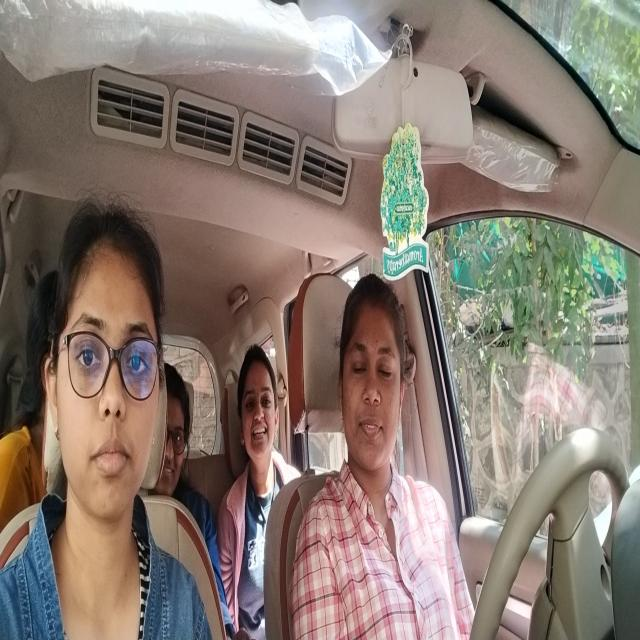drowsy: (332, 251, 407, 490)
person: (54, 207, 166, 534), (14, 260, 56, 472), (236, 328, 280, 490), (164, 344, 200, 500)
